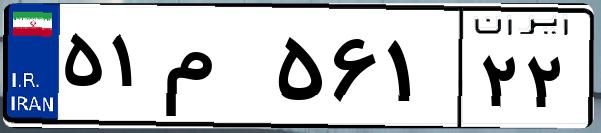1: (385, 28, 445, 110), (110, 28, 158, 98)
2: (475, 38, 525, 113), (525, 38, 570, 115)
5: (270, 28, 330, 110), (57, 26, 110, 100)
6: (330, 28, 385, 110)
م: (158, 20, 270, 120)
